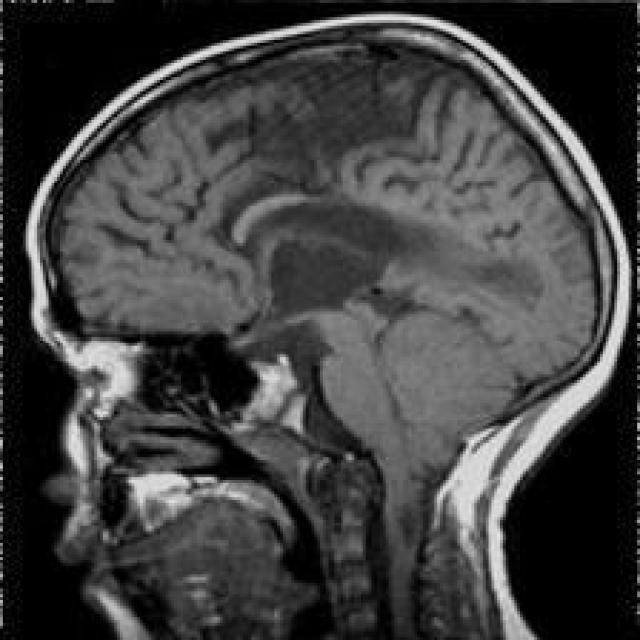no_tumor: (27, 7, 640, 514)
